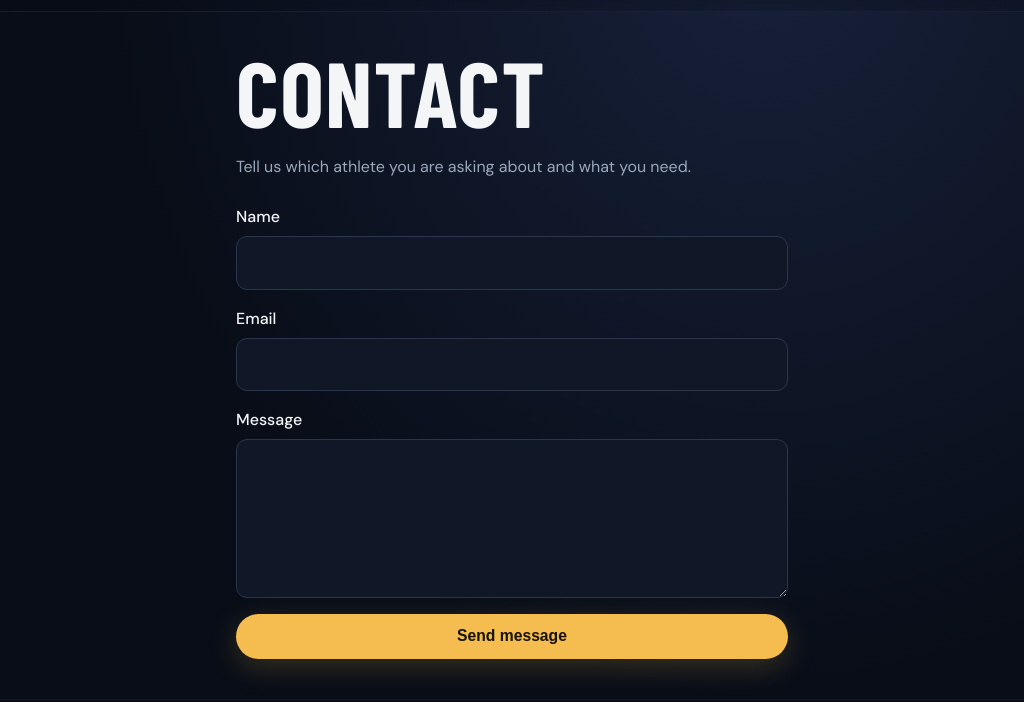
Test: app routes and forms › sends the contact form and shows a success message
Type "A User" into the field labelled "Name". click: (512, 263)
box: [236, 236, 788, 290]
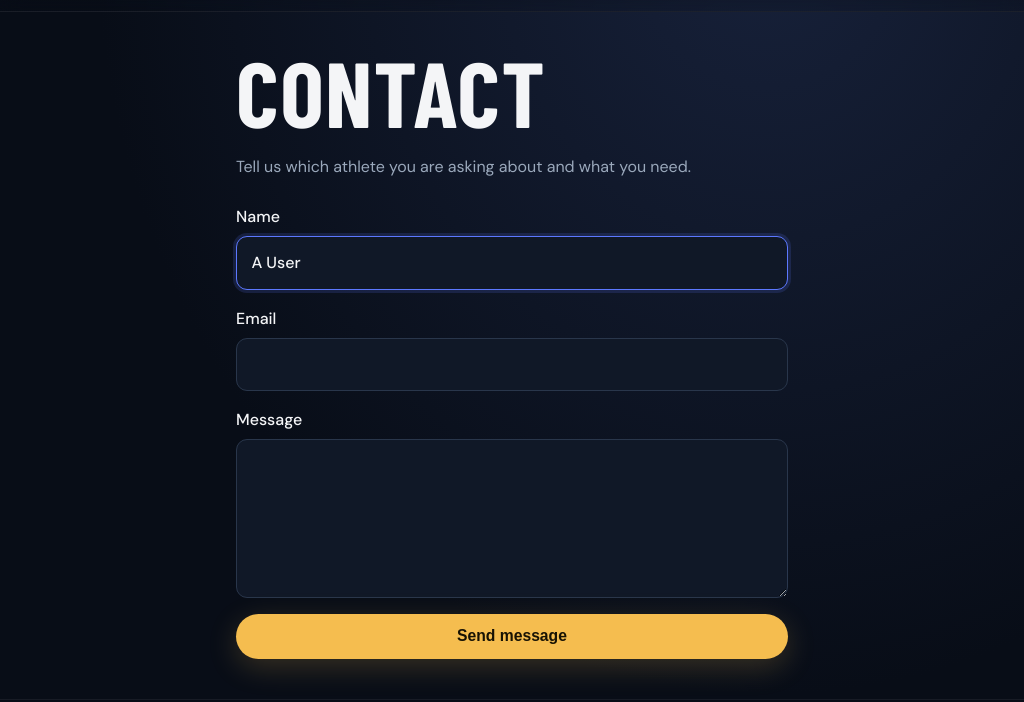
Type "a@example.org" into the field labelled "Email". click: (512, 364)
box: [236, 338, 788, 391]
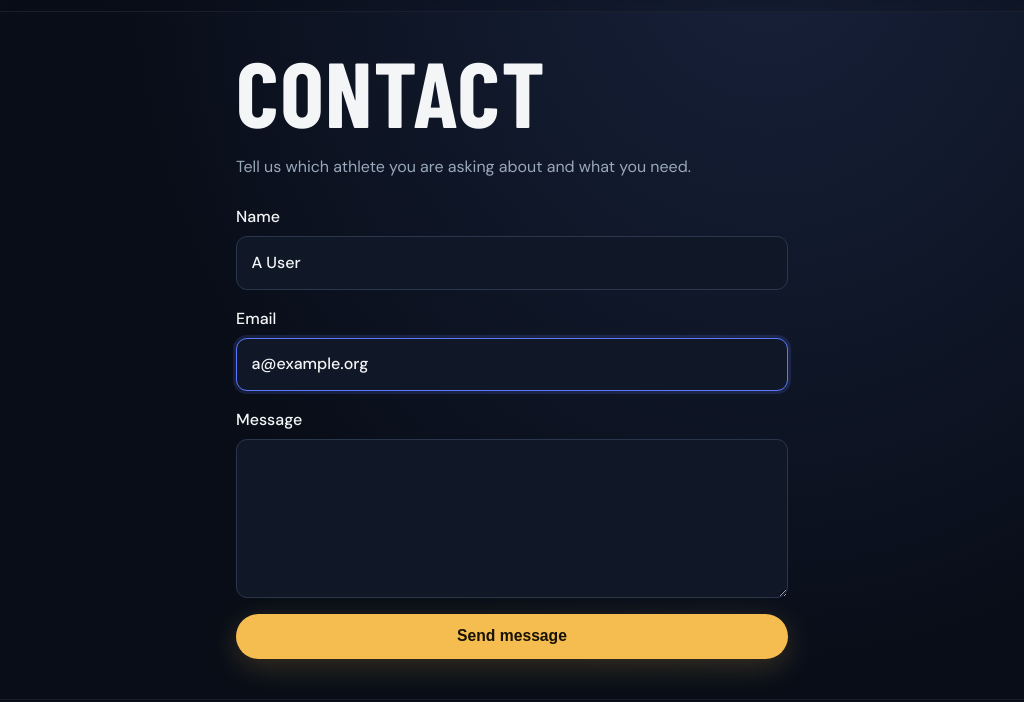
Type "I would like to learn more." into the text box labelled "Message". click: (512, 518)
box: [236, 439, 788, 598]
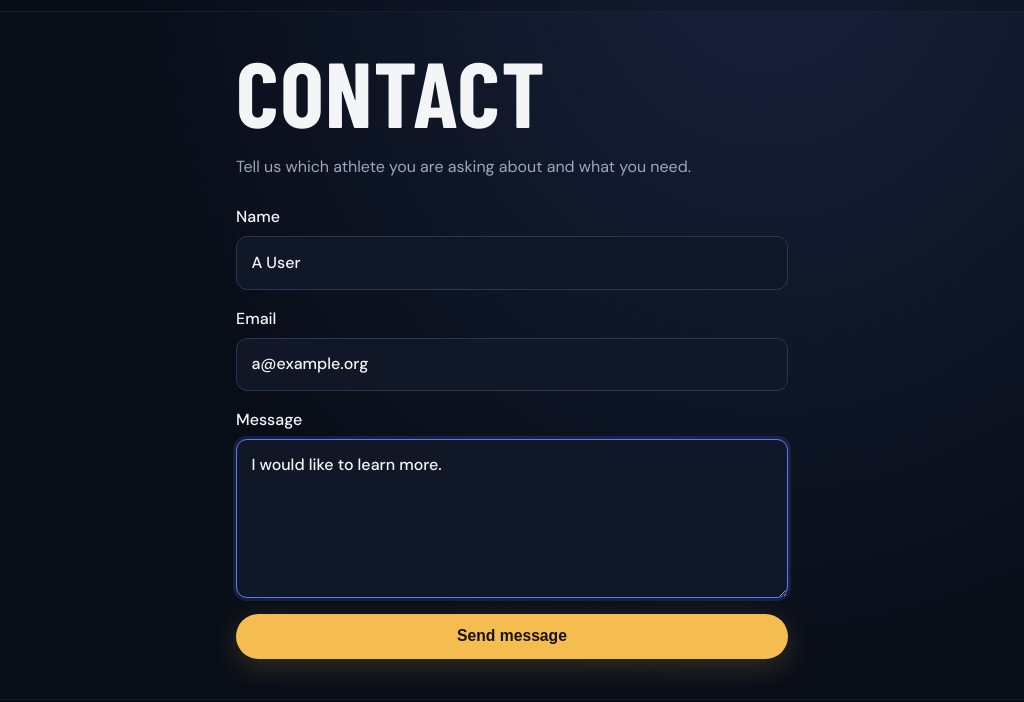
Click the button "Send message". click: (512, 636)
box: [236, 614, 788, 659]
(page scrolled)
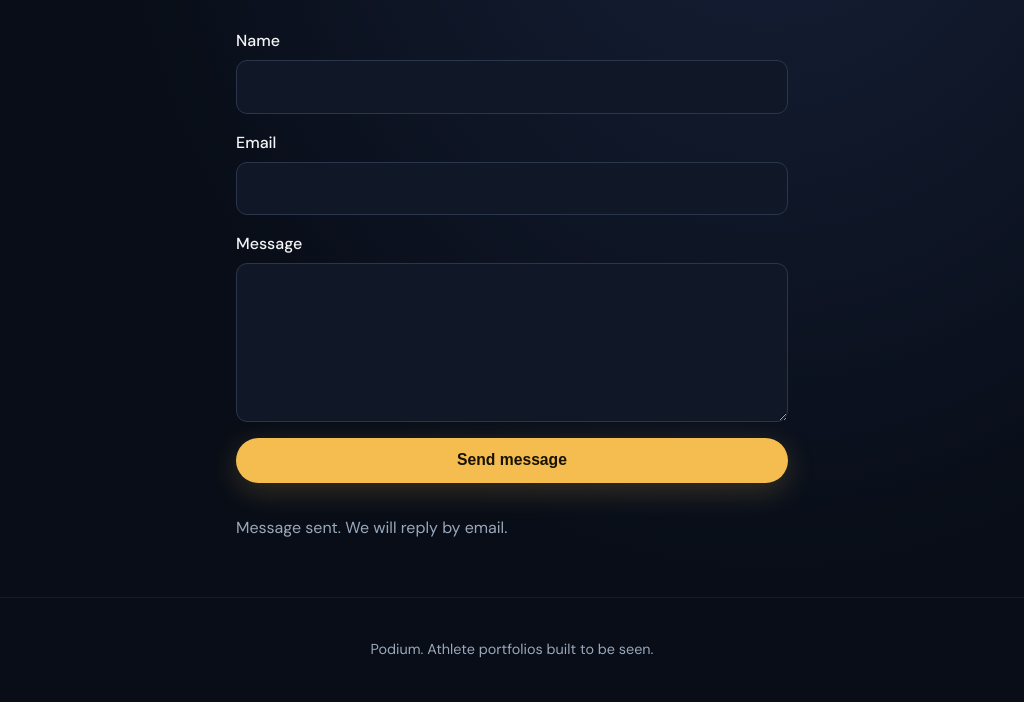
Check: the text "Message sent. We will reply by email." is shown, box [236, 517, 507, 538]
